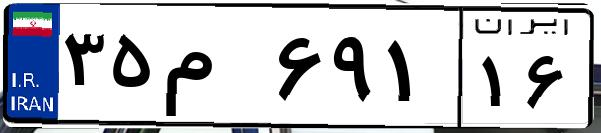1: (385, 28, 445, 110), (475, 38, 525, 113)
3: (57, 26, 110, 100)
5: (110, 28, 158, 98)
6: (270, 28, 330, 110), (525, 38, 570, 115)
9: (330, 28, 385, 110)
م: (158, 20, 270, 120)
